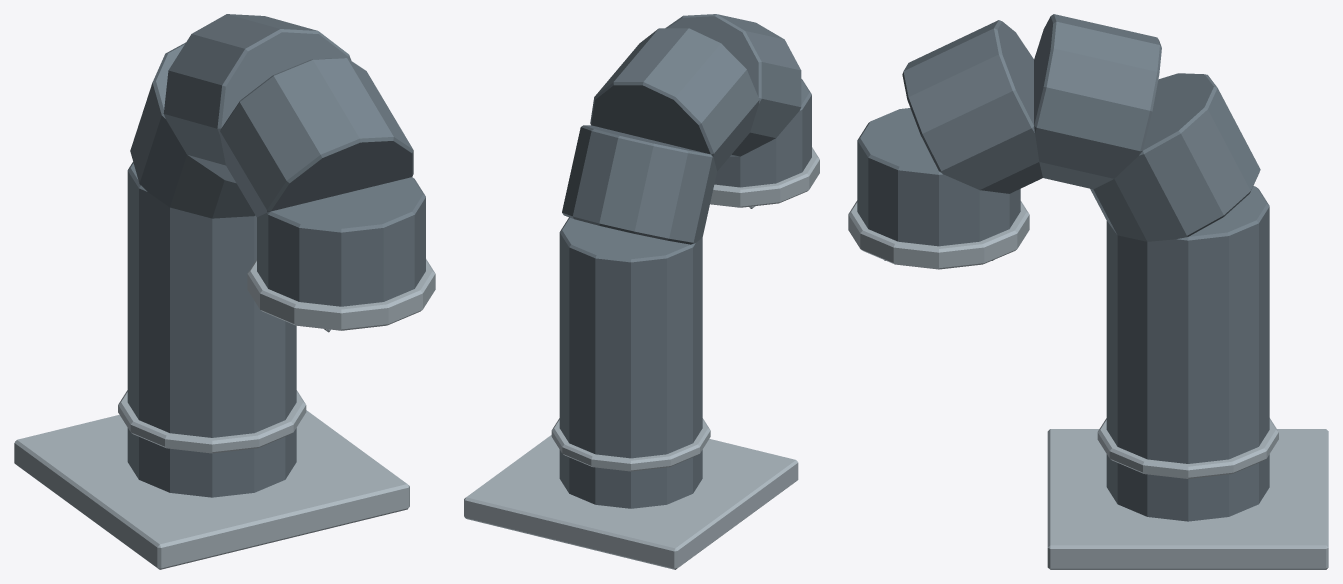
Rendered from b05_gooseneck_roof_vent.glb.
The picture shows the model from 3 angles, left to right: view 1: azimuth 30°, elevation 25°; view 2: azimuth 150°, elevation 25°; view 3: azimuth 270°, elevation 25°; orthographic projection. The views are drawn at different scales.
Parts seen in each view (by area): view 1: b05_gooseneck_roof_vent; view 2: b05_gooseneck_roof_vent; view 3: b05_gooseneck_roof_vent.
Part boxes in pixels (x1,y1,x2,y2): b05_gooseneck_roof_vent: [14, 14, 435, 569]; b05_gooseneck_roof_vent: [464, 14, 819, 569]; b05_gooseneck_roof_vent: [848, 14, 1328, 569].
Bounding box in the file's own units: 0.62 × 1.19 × 1.06.
